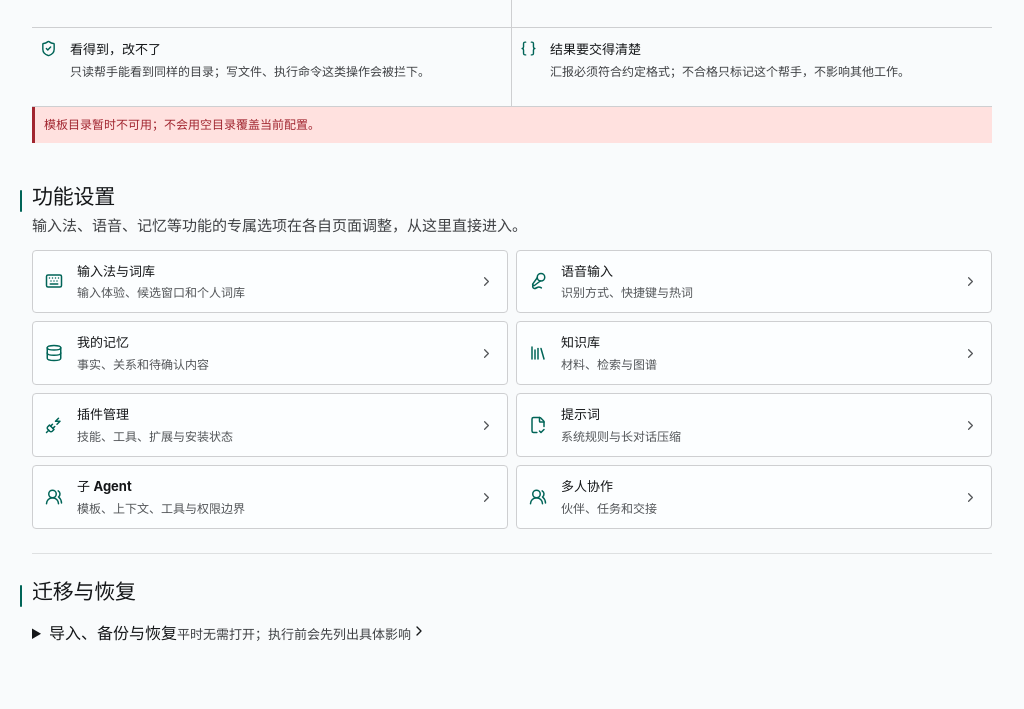
configuration file migration workflows › exports to a native-selected directory and shows the real receipt path
(page scrolled)
Click the text "导入、备份与恢复": (113, 633) [49,623,177,643]
(page scrolled)
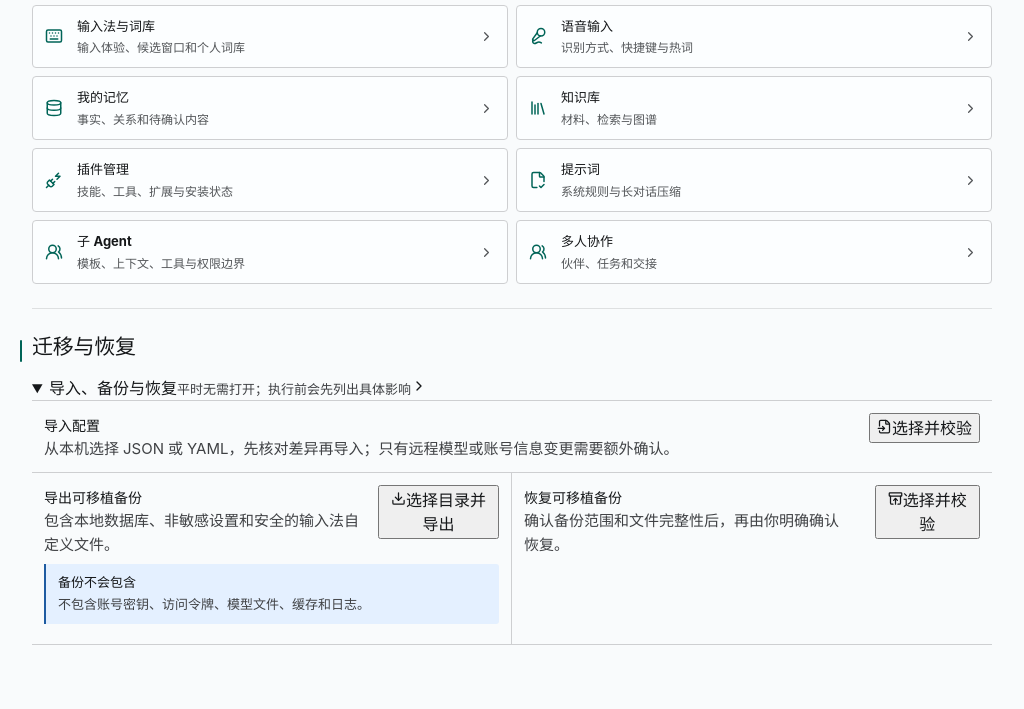
Click the button "选择目录并导出": (439, 512) [378,485,499,539]
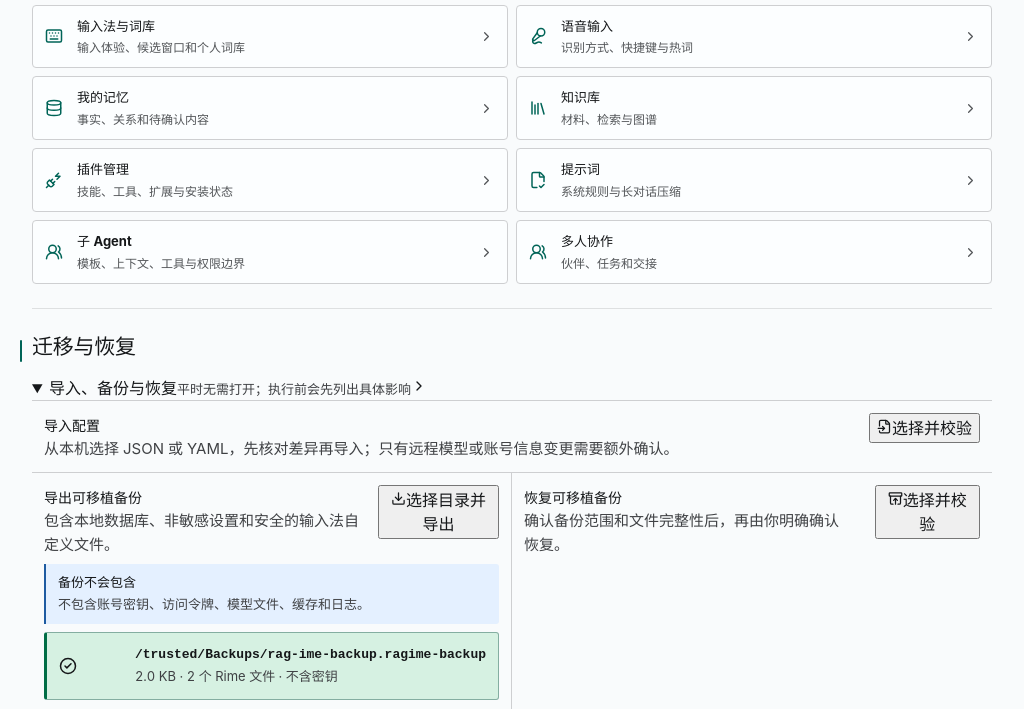
Expected: the text "/trusted/Backups/rag-ime-backup.ragime-backup" is shown, [135,645,486,664]
Expected: the text "2.0 KB · 2 个 Rime 文件 · 不含密钥" is shown, [135,668,338,684]
